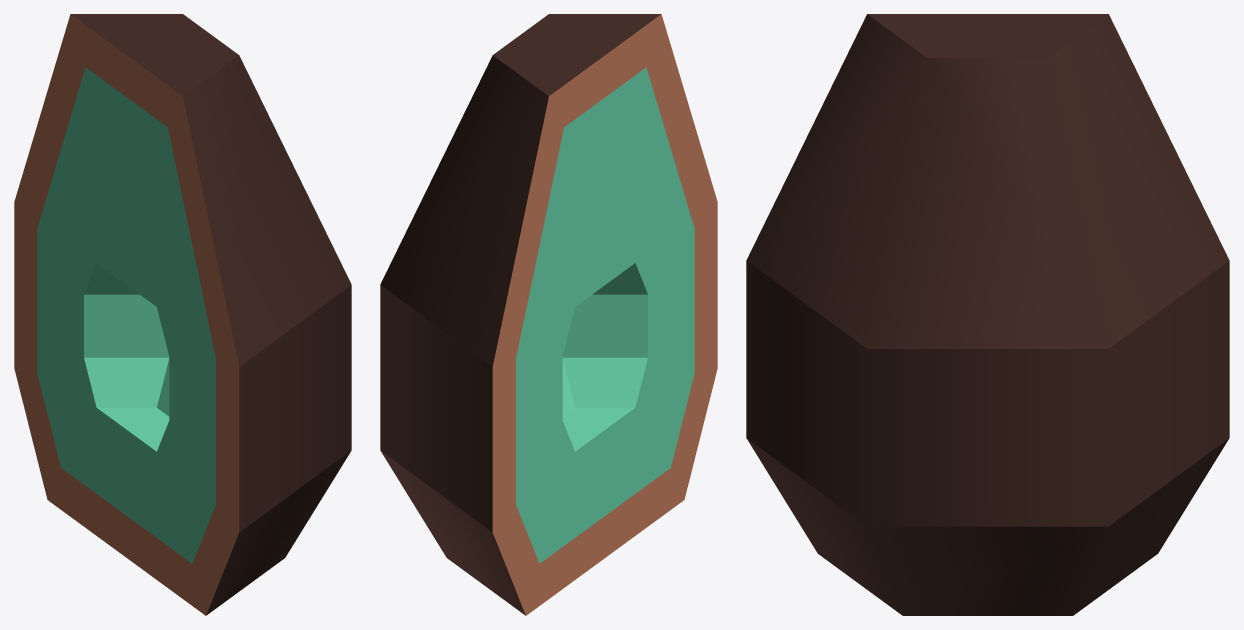
Rendered from avocadoHalf.GLB.
3 views of the same model, side by side, from view 1: azimuth 30°, elevation 25°; view 2: azimuth 150°, elevation 25°; view 3: azimuth 270°, elevation 25° (orthographic). The views are drawn at different scales.
Parts seen in each view (by area): view 1: avocadoHalf; view 2: avocadoHalf; view 3: avocadoHalf.
Boxes of the visible parts, x1,y1,x2,y2 form: avocadoHalf: [14, 14, 351, 615]; avocadoHalf: [380, 14, 717, 615]; avocadoHalf: [746, 14, 1229, 615].
Size of the model in its own units: 0.0751 by 0.2137 by 0.1734.
